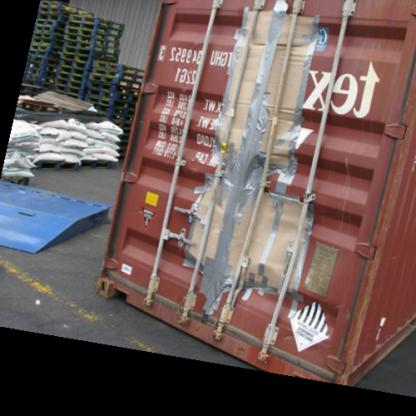Damage: (184, 9, 315, 316)
